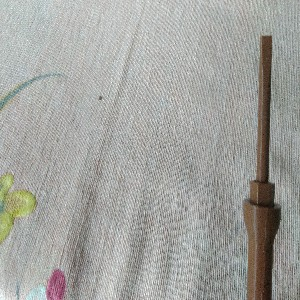obeng: (241, 34, 281, 300)
